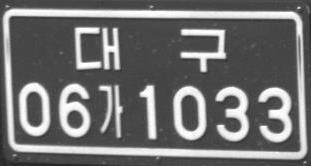0: (171, 84, 207, 140), (17, 81, 51, 136)
1: (133, 84, 165, 140)
3: (215, 84, 250, 142), (258, 85, 292, 144)
6: (58, 82, 91, 138)
가: (96, 85, 124, 137)
대구_D: (74, 26, 227, 73)
